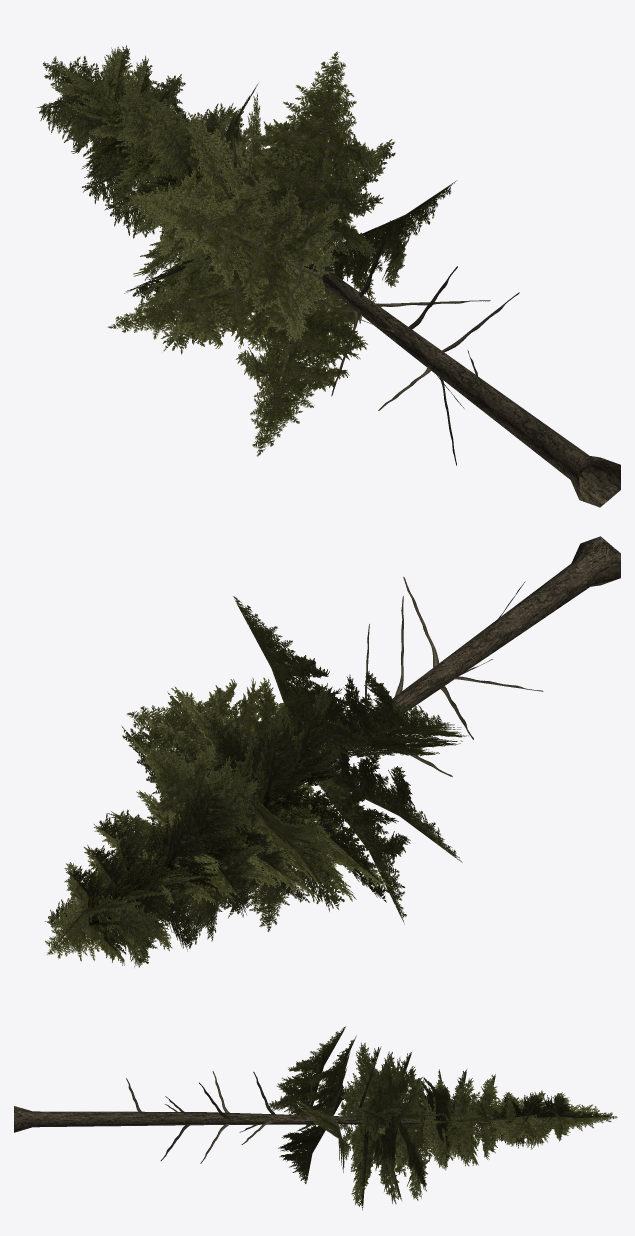
Rendered from MEP_Con_01_b.fbx.
The picture shows the model from 3 angles, top to bottom: view 1: azimuth 30°, elevation 25°; view 2: azimuth 150°, elevation 25°; view 3: azimuth 270°, elevation 25°; orthographic projection. The views are drawn at different scales.
Parts seen in each view (by area): view 1: MEP_Con_01_b, MEP_ConTrunk_01_b; view 2: MEP_Con_01_b, MEP_ConTrunk_01_b; view 3: MEP_Con_01_b, MEP_ConTrunk_01_b.
Boxes of the visible parts, x1,y1,x2,y2 form: MEP_Con_01_b: (37,45,519,465); MEP_ConTrunk_01_b: (304,262,620,507); MEP_Con_01_b: (45,576,543,967); MEP_ConTrunk_01_b: (300,536,620,782); MEP_Con_01_b: (126,1026,617,1210); MEP_ConTrunk_01_b: (14,1106,552,1132).
Size of the model in its own units: 9.56 by 8.99 by 26.75.
